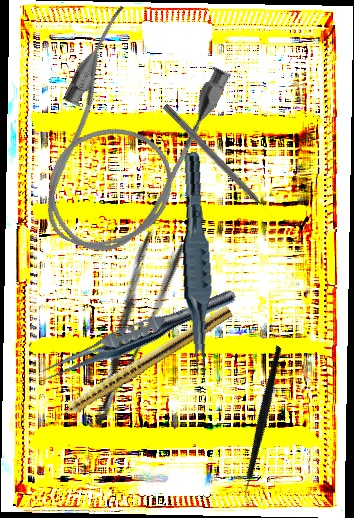Cannula: (9, 0, 238, 274)
Chopper: (195, 345, 334, 507)
Dressing Forceps: (63, 227, 190, 430)
Handpiece: (44, 301, 234, 429)
Hook Surgical: (161, 102, 275, 221)
Tissue Forceps: (35, 280, 240, 391), (170, 151, 221, 377)
